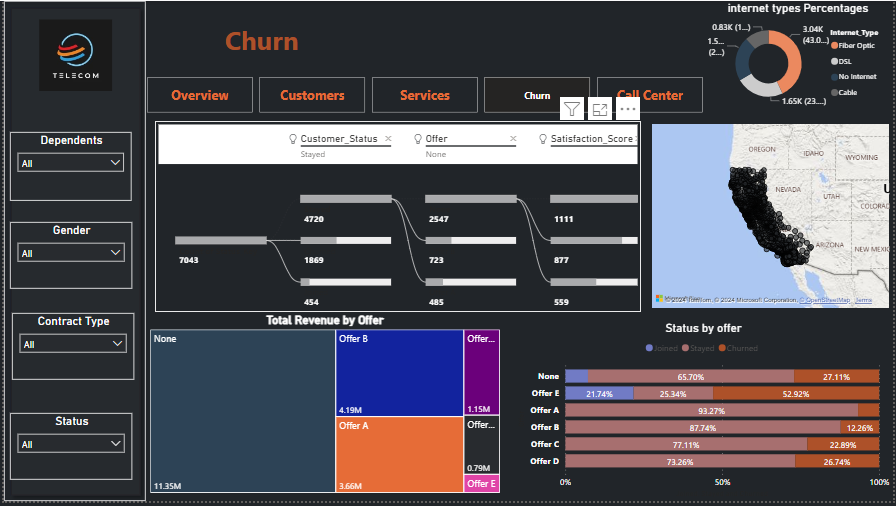

The page's visual inventory and layout, read from the dashboard file:
{"tool":"powerbi","page":{"name":"Churn","canvas":[1280,720],"ordinal":3},"visuals":[{"type":"shape","box":[0,0,204.5,720],"z":0},{"type":"slicer","title":"Dependents","fields":{"Values":["Dim_Customers.Dependents"]},"box":[9.2,188.5,175.4,99.5],"z":1000},{"type":"slicer","title":"Gender ","fields":{"Values":["Dim_Customers.Gender"]},"box":[8.6,318.2,175.7,96.5],"z":2000},{"type":"slicer","title":"Contract Type","fields":{"Values":["Dim_Contracts.Contract_Type"]},"box":[11.5,449.3,175.7,96.5],"z":3000},{"type":"image","box":[31.4,22.3,142.7,112.6],"z":4000},{"type":"textbox","box":[217.5,26.2,306.9,75.7],"z":5000},{"type":"pageNavigator","box":[205.5,110,801.2,51.1],"z":6000},{"type":"map","fields":{"Size":["CountNonNull(Dim_Customers.Customer_ID)"],"Y":["Dim_Locations.Latitude"],"X":["Dim_Locations.Longitude"]},"box":[928.8,172.8,351.4,275],"z":7000},{"type":"hundredPercentStackedBarChart","title":"Status by offer","fields":{"Category":["Dim_Customers.Offer"],"Y":["Measure.Joined","Measure.Stayed","Measure.Churned"]},"box":[734.1,460.5,545.9,259.2],"z":8000},{"type":"treemap","title":"Total Revenue by Offer","fields":{"Values":["Sum(Fact_TelecomChurn.Total_Revenue)"],"Group":["Dim_Customers.Offer"]},"box":[205.9,449.3,512.6,263.5],"z":9000},{"type":"decompositionTreeVisual","fields":{"Analyze":["CountNonNull(Fact_TelecomChurn.Status_Key)"],"ExplainBy":["Dim_Status.Customer_Status","Dim_Customers.Offer","Fact_TelecomChurn.Satisfaction_Score"]},"box":[217.4,172.8,699.8,275],"z":10000},{"type":"donutChart","title":"internet types Percentages","fields":{"Y":["CountNonNull(Dim_Customers.Customer_Key)"],"Category":["Dim_Internet_Service_Details.Internet_Type"]},"box":[1006.7,0,273.6,161],"z":11000},{"type":"slicer","title":"Status","fields":{"Values":["Fact_TelecomChurn.Status"]},"box":[8.3,593.2,176.2,96.3],"z":12000}]}

Visuals, with their boxes in screenshot pixels (x1, y1, x2, y2), scaled from the page's 1280x720 canvas onto the 896x506 screenshot:
shape: detection(0, 0, 143, 505)
"Dependents" slicer: detection(6, 132, 129, 202)
"Gender " slicer: detection(6, 224, 129, 291)
"Contract Type" slicer: detection(8, 316, 131, 384)
image: detection(22, 16, 122, 95)
textbox: detection(152, 18, 367, 72)
pageNavigator: detection(144, 77, 705, 113)
map - CountNonNull(Dim_Customers.Customer_ID) x Dim_Locations.Latitude: detection(650, 121, 895, 315)
"Status by offer" hundredPercentStackedBarChart: detection(514, 324, 895, 505)
"Total Revenue by Offer" treemap: detection(144, 316, 503, 501)
decompositionTreeVisual - CountNonNull(Fact_TelecomChurn.Status_Key) x Dim_Status.Customer_Status: detection(152, 121, 642, 315)
"internet types Percentages" donutChart: detection(705, 0, 895, 113)
"Status" slicer: detection(6, 417, 129, 485)
